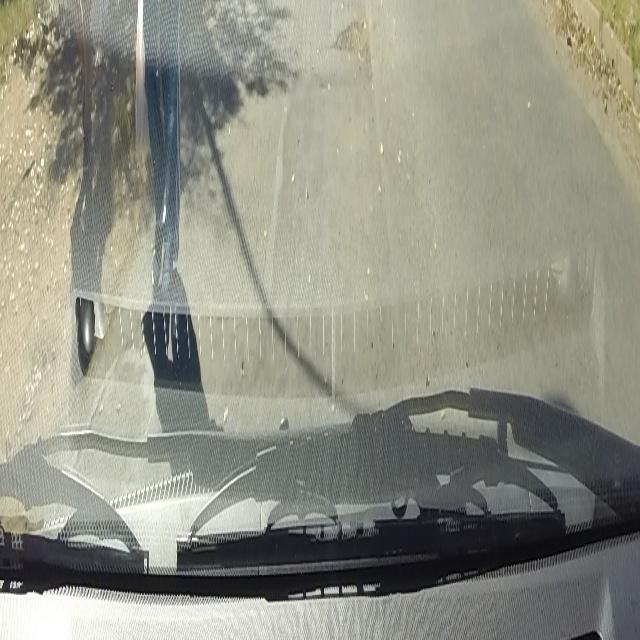pothole: (331, 11, 370, 61)
